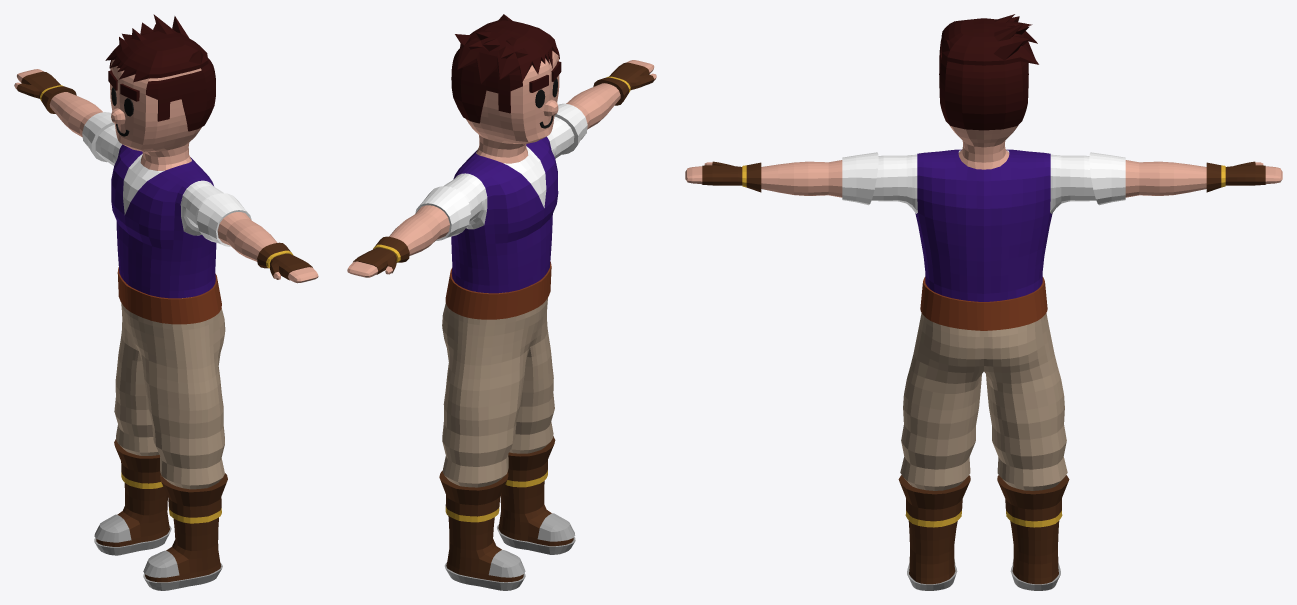
File: Model_Spellcaster.fbx
3 renders of one model, left to right at view 1: azimuth 30°, elevation 25°; view 2: azimuth 150°, elevation 25°; view 3: azimuth 270°, elevation 25°, orthographic. The views are drawn at different scales.
Parts seen in each view (by area): view 1: Spellcaster; view 2: Spellcaster; view 3: Spellcaster.
Boxes of the visible parts, x1=… form: Spellcaster: x1=14, y1=14, x2=318, y2=590; Spellcaster: x1=347, y1=14, x2=656, y2=590; Spellcaster: x1=685, y1=14, x2=1282, y2=590.
Size of the model in its own units: 86.98 by 432 by 417.
